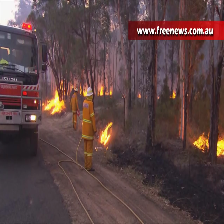fire_h: (44, 90, 65, 115), (100, 121, 113, 146)
fire_l: (192, 135, 209, 153), (216, 139, 224, 155), (70, 84, 78, 91), (99, 85, 104, 96), (104, 90, 114, 95), (59, 78, 63, 90), (82, 90, 88, 97), (172, 89, 176, 98), (79, 83, 82, 94), (138, 93, 142, 98)
